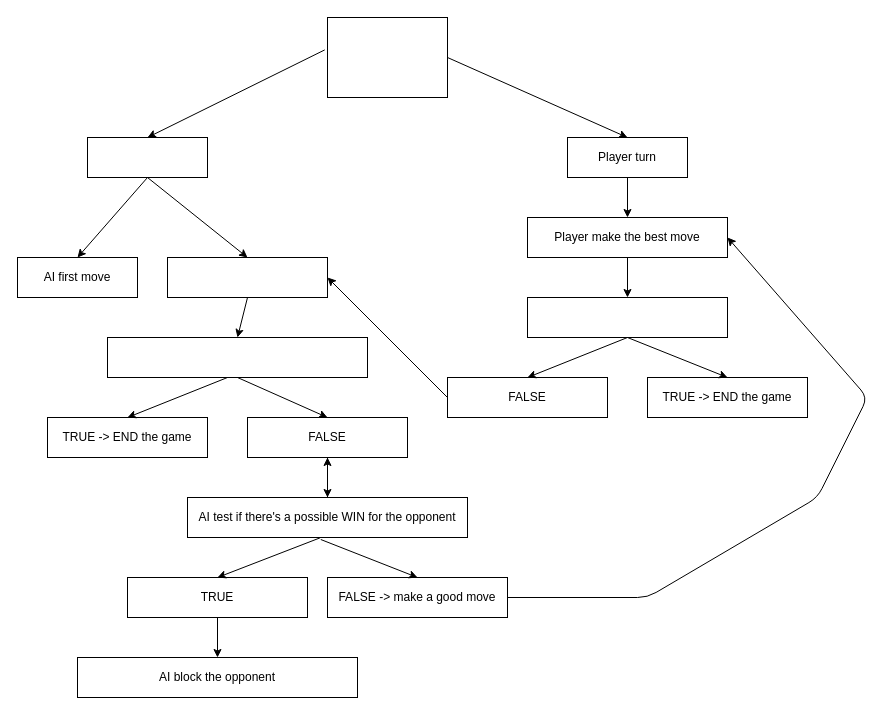
This 893x715 diagram has some shape labels left out. The shapes that lost their labels are listed below. From the top down, each one's box as (x1, y1, x2, y2) in pixels, then its label:
(326, 16, 448, 98): Tic Tac Toe
(86, 136, 208, 178): AI turn
(166, 256, 328, 298): AI try to make a move
(526, 296, 728, 338): test if there's a possible WIN
(106, 336, 368, 378): the AI system test if there's a possible WIN
